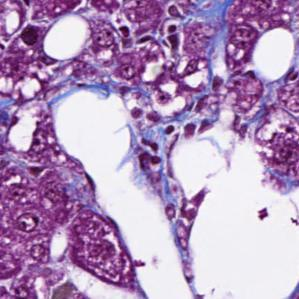inflammation: (158, 14, 191, 55), (16, 18, 51, 50)
